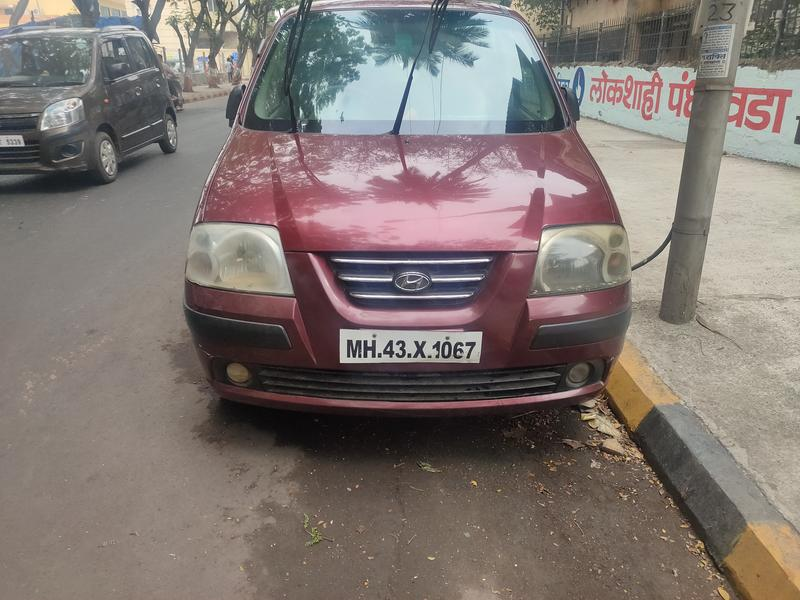license_plate: (336, 318, 491, 374)
